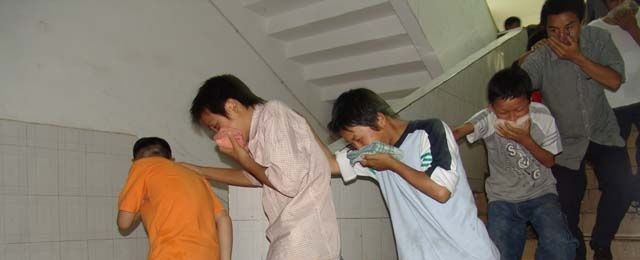face: (344, 126, 388, 159), (201, 112, 245, 142), (496, 98, 529, 134), (546, 15, 578, 52)
